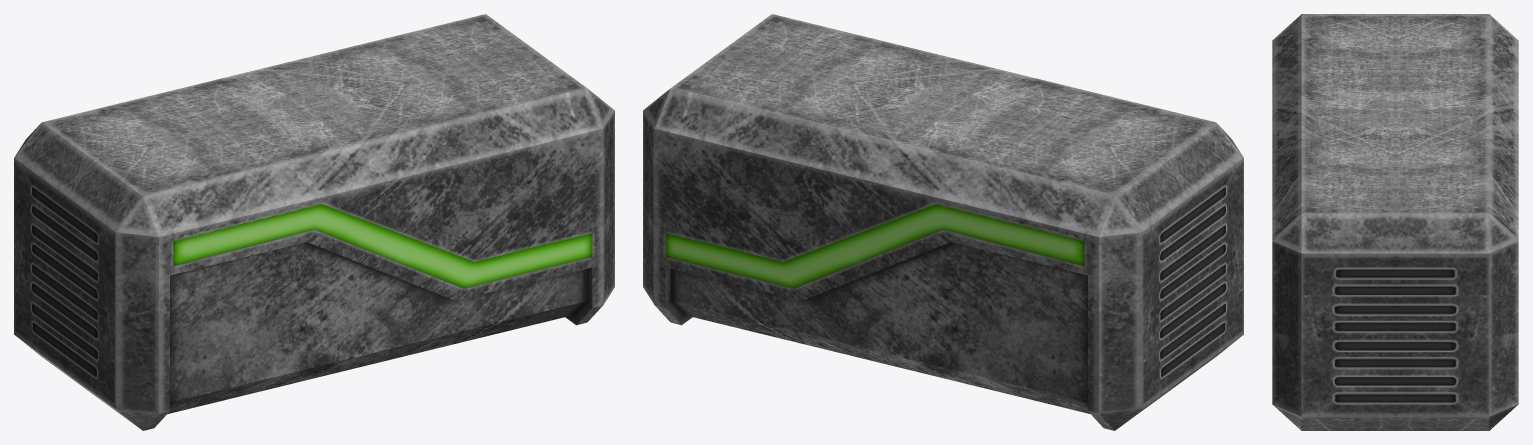
3 views of the same model, side by side, from view 1: azimuth 30°, elevation 25°; view 2: azimuth 150°, elevation 25°; view 3: azimuth 270°, elevation 25° (orthographic). The views are drawn at different scales.
Parts seen in each view (by area): view 1: Box01; view 2: Box01; view 3: Box01.
Boxes of the visible parts, x1,y1,x2,y2 form: Box01: (14,14,614,430); Box01: (643,14,1243,430); Box01: (1272,14,1518,430).
Size of the model in its own units: 33.19 by 14.88 by 15.35.
